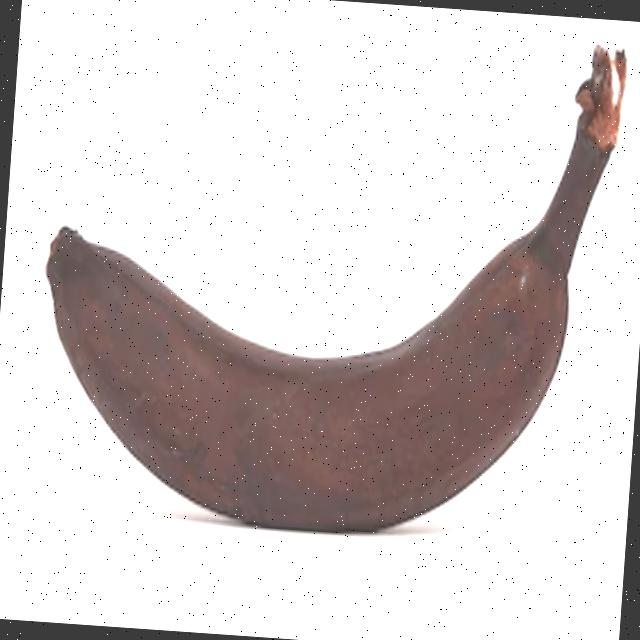Rotten: (9, 0, 637, 578)
